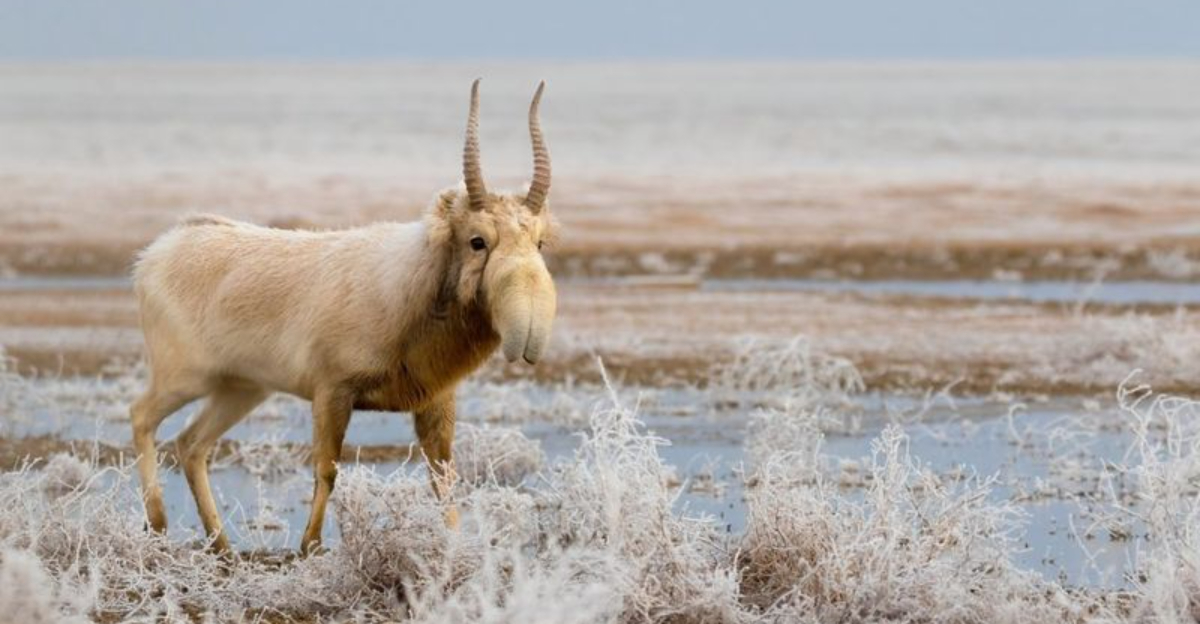saiga: (99, 78, 562, 583)
